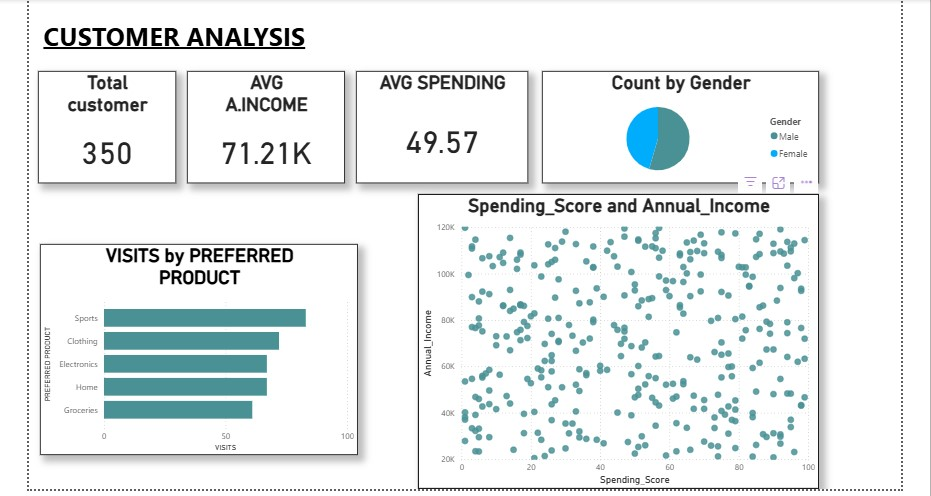

The dashboard page shown, as its layout file describes it:
{"tool":"powerbi","page":{"name":"Page 1","canvas":[1280,720],"ordinal":0},"visuals":[{"type":"pieChart","fields":{"Y":["CountNonNull(customer_segmentation_mixed.Gender)"],"Category":["customer_segmentation_mixed.Gender"]},"box":[753.8,105.8,407,164.6],"z":0},{"type":"card","title":"Total customer","fields":{"Values":["Max(customer_segmentation_mixed.total customer)"]},"box":[13.2,105.8,202.8,164.6],"z":1},{"type":"card","title":"AVG A.INCOME","fields":{"Values":["Avg(customer_segmentation_mixed.Avg_Annual_Income)"]},"box":[232.2,105.8,232.2,164.6],"z":2},{"type":"card","title":"AVG SPENDING ","fields":{"Values":["Avg(customer_segmentation_mixed.avg_Avg_SpendingS)"]},"box":[480.5,105.8,252.7,164.6],"z":3},{"type":"clusteredBarChart","fields":{"Category":["customer_segmentation_mixed.Preferred_Product"],"Y":["CountNonNull(customer_segmentation_mixed.Monthly_Visits)"]},"box":[16.2,360,467.3,310],"z":4},{"type":"scatterChart","fields":{"X":["customer_segmentation_mixed.Spending_Score"],"Y":["customer_segmentation_mixed.Annual_Income"]},"box":[571.6,286.5,589.2,433.5],"z":5},{"type":"textbox","box":[16.2,23.5,464.3,60.2],"z":8}]}

Visuals, with their boxes in screenshot pixels (x1, y1, x2, y2):
pieChart - CountNonNull(customer_segmentation_mixed.Gender) x customer_segmentation_mixed.Gender: BBox(540, 70, 817, 182)
"Total customer" card: BBox(36, 70, 174, 182)
"AVG A.INCOME" card: BBox(185, 70, 343, 182)
"AVG SPENDING " card: BBox(354, 70, 526, 182)
clusteredBarChart - customer_segmentation_mixed.Preferred_Product x CountNonNull(customer_segmentation_mixed.Monthly_Visits): BBox(38, 243, 356, 454)
scatterChart - customer_segmentation_mixed.Spending_Score x customer_segmentation_mixed.Annual_Income: BBox(416, 193, 817, 488)
textbox: BBox(38, 14, 354, 55)
